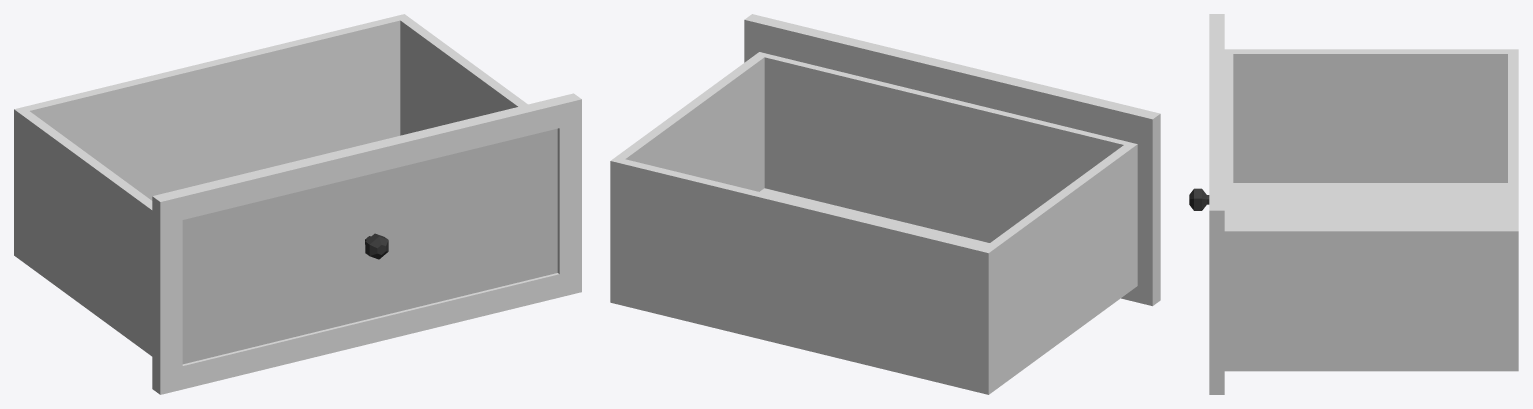
The model's file is TV_Table2_C1_02.fbx.
The picture shows the model from 3 angles, left to right: view 1: azimuth 30°, elevation 25°; view 2: azimuth 150°, elevation 25°; view 3: azimuth 270°, elevation 25°; orthographic projection. The views are drawn at different scales.
Visible parts, largest first — view 1: TV_Table2_C1_02; view 2: TV_Table2_C1_02; view 3: TV_Table2_C1_02.
Part boxes in pixels (left/top/right/bottom): TV_Table2_C1_02: left=14, top=14, right=581, bottom=394; TV_Table2_C1_02: left=610, top=14, right=1160, bottom=394; TV_Table2_C1_02: left=1189, top=14, right=1518, bottom=394.
Bounding box in the file's own units: 59.97 × 26.22 × 42.47.
